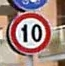limite 10: (7, 12, 51, 54)
